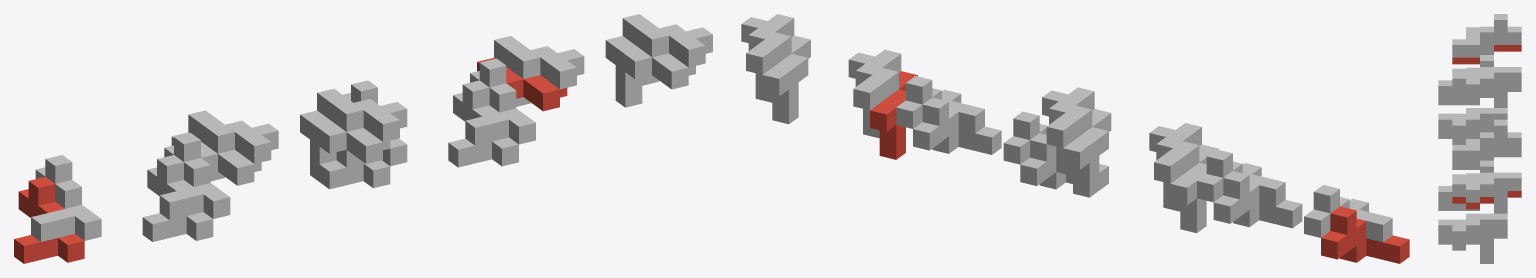
Rendered from tiling.obj.
The picture shows the model from 3 angles, left to right: view 1: azimuth 30°, elevation 25°; view 2: azimuth 150°, elevation 25°; view 3: azimuth 270°, elevation 25°; orthographic projection. The views are drawn at different scales.
Visible parts, largest first — view 1: copy_1_domain_8, copy_1_domain_4, copy_1_domain_3, copy_2_domain_6, copy_2_domain_8, copy_2_domain_3, copy_2_domain_7, copy_2_domain_2, copy_1_domain_1, copy_1_domain_2, copy_1_domain_6, copy_2_domain_4 (+4 smaller); view 2: copy_1_domain_2, copy_1_domain_1, copy_1_domain_6, copy_2_domain_8, copy_2_domain_4, copy_2_domain_3, copy_2_domain_7, copy_2_domain_6, copy_2_domain_2, copy_1_domain_3, copy_1_domain_4, copy_1_domain_8 (+4 smaller); view 3: copy_2_domain_8, copy_2_domain_3, copy_2_domain_7, copy_1_domain_3, copy_1_domain_7, copy_2_domain_4, copy_1_domain_8, copy_1_domain_4, copy_2_domain_6, copy_1_domain_1, copy_1_domain_5, copy_2_domain_5 (+4 smaller).
Boxes of the visible parts, <box> form: copy_1_domain_8: <box>465,58,535,145</box>; copy_1_domain_4: <box>159,133,230,220</box>; copy_1_domain_3: <box>31,155,101,241</box>; copy_2_domain_6: <box>605,36,695,107</box>; copy_2_domain_8: <box>622,14,712,85</box>; copy_2_domain_3: <box>188,110,278,181</box>; copy_2_domain_7: <box>494,36,584,106</box>; copy_2_domain_2: <box>300,110,390,181</box>; copy_1_domain_1: <box>14,176,84,263</box>; copy_1_domain_2: <box>142,155,213,241</box>; copy_1_domain_6: <box>448,80,518,167</box>; copy_2_domain_4: <box>317,88,407,141</box>; copy_1_domain_2: <box>1213,171,1302,228</box>; copy_1_domain_1: <box>1321,206,1409,263</box>; copy_1_domain_6: <box>913,97,1001,154</box>; copy_2_domain_8: <box>741,14,794,102</box>; copy_2_domain_4: <box>1042,87,1094,175</box>; copy_2_domain_3: <box>1149,123,1201,211</box>; copy_2_domain_7: <box>848,49,901,138</box>; copy_2_domain_6: <box>762,35,810,124</box>; copy_2_domain_2: <box>1063,109,1111,197</box>; copy_1_domain_3: <box>1304,185,1392,242</box>; copy_1_domain_4: <box>1197,149,1285,206</box>; copy_1_domain_8: <box>896,76,984,133</box>; copy_2_domain_8: <box>1438,213,1507,257</box>; copy_2_domain_3: <box>1452,67,1521,107</box>; copy_2_domain_7: <box>1452,172,1521,213</box>; copy_1_domain_3: <box>1452,14,1521,57</box>; copy_1_domain_7: <box>1452,119,1521,163</box>; copy_2_domain_4: <box>1438,108,1507,137</box>; copy_1_domain_8: <box>1438,160,1493,204</box>; copy_1_domain_4: <box>1438,55,1493,98</box>; copy_2_domain_6: <box>1438,232,1507,263</box>; copy_1_domain_1: <box>1452,45,1521,64</box>; copy_1_domain_5: <box>1452,150,1521,169</box>; copy_2_domain_5: <box>1452,191,1521,209</box>.
Size of the model in its own units: 40 by 4 by 6.
